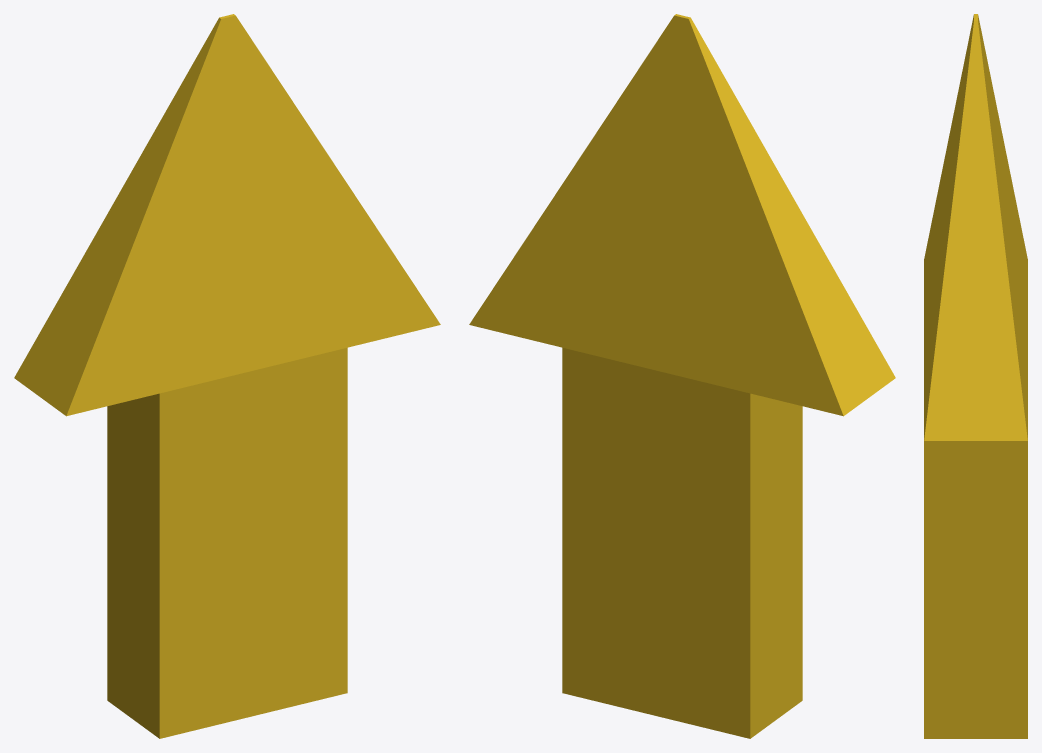
The model's file is experience_pickup.fbx.
The picture shows the model from 3 angles, left to right: view 1: azimuth 30°, elevation 25°; view 2: azimuth 150°, elevation 25°; view 3: azimuth 270°, elevation 25°; orthographic projection.
Parts seen in each view (by area): view 1: experience_pickup; view 2: experience_pickup; view 3: experience_pickup.
Part boxes in pixels (left/top/right/bottom): experience_pickup: left=14, top=14, right=440, bottom=738; experience_pickup: left=469, top=14, right=895, bottom=738; experience_pickup: left=924, top=14, right=1027, bottom=738.
Bounding box in the file's own units: 11.37 × 19.72 × 2.74.
